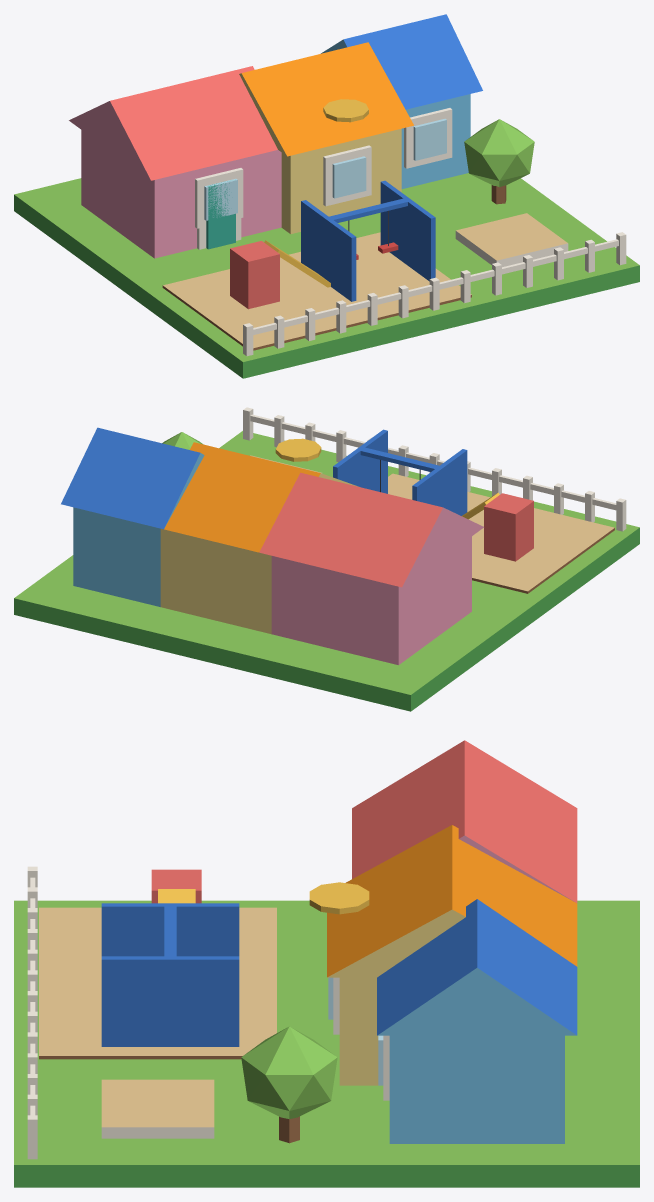
Rendered from public_kindergarten.glb.
3 renders of one model, top to bottom at view 1: azimuth 30°, elevation 25°; view 2: azimuth 150°, elevation 25°; view 3: azimuth 270°, elevation 25°, orthographic. The views are drawn at different scales.
Visible parts, largest first — view 1: public_kindergarten; view 2: public_kindergarten; view 3: public_kindergarten.
Part boxes in pixels (box(x1,y1,x2,y2)): public_kindergarten: box(14, 14, 639, 378); public_kindergarten: box(14, 407, 639, 711); public_kindergarten: box(14, 740, 639, 1187).
Size of the model in its own units: 1 by 0.36 by 1.
